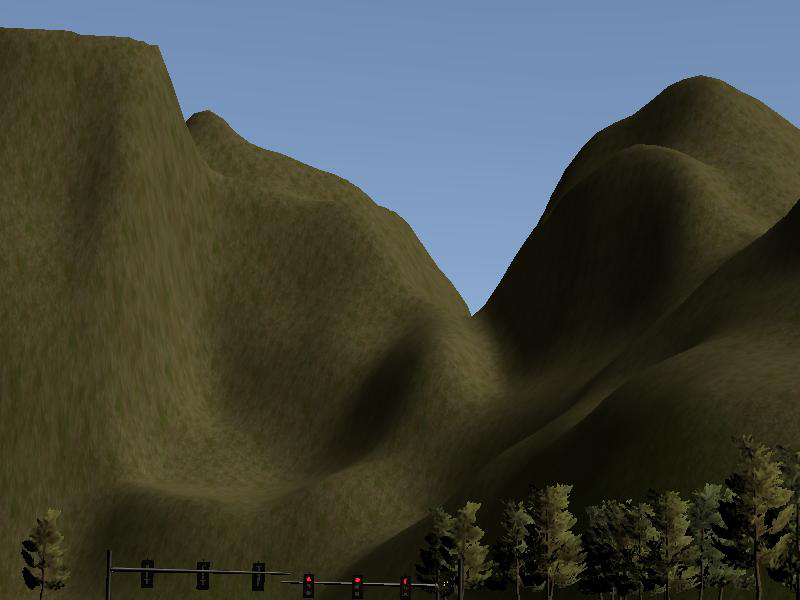red: (401, 575, 414, 600), (303, 575, 315, 600), (351, 575, 363, 600)
